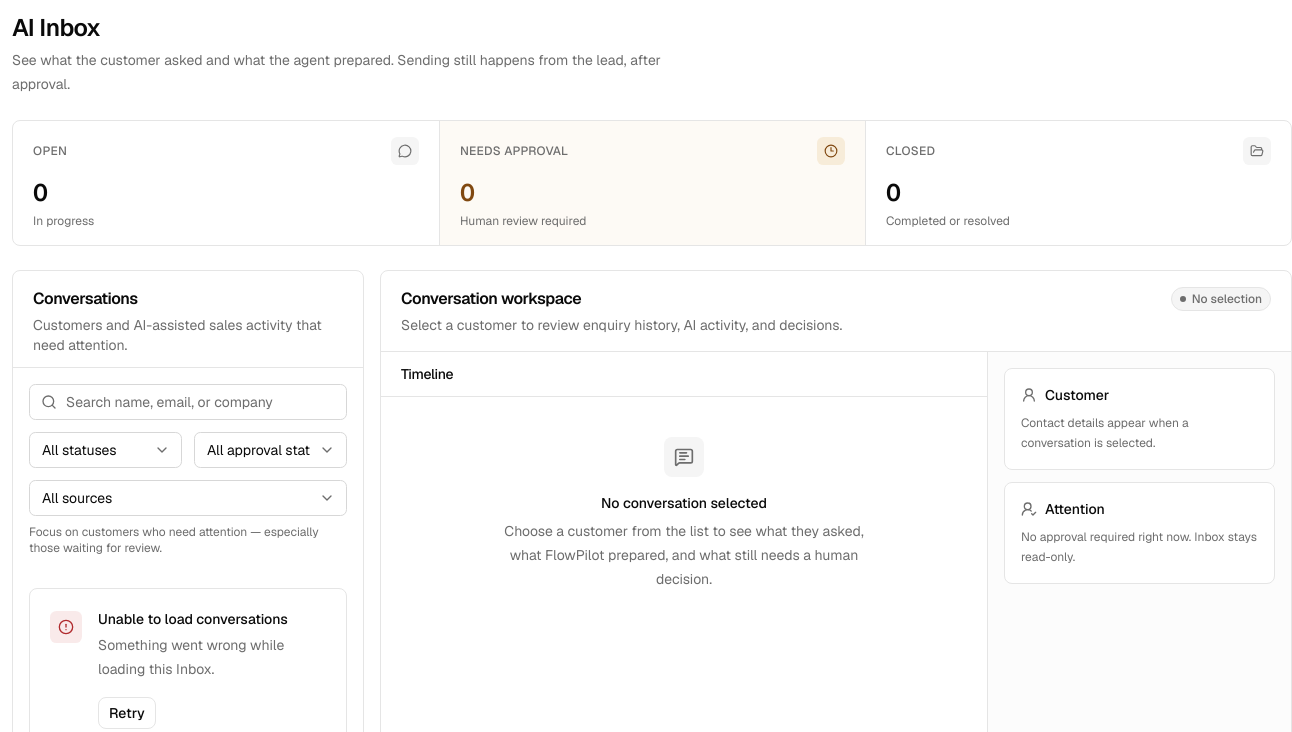
it: AI Inbox page › shows error and retry for list failures
Expected: the heading "Unable to load conversations" is shown, [98,610,288,628]
Click the button "Retry" at (127, 713), box [98,697,156,729]
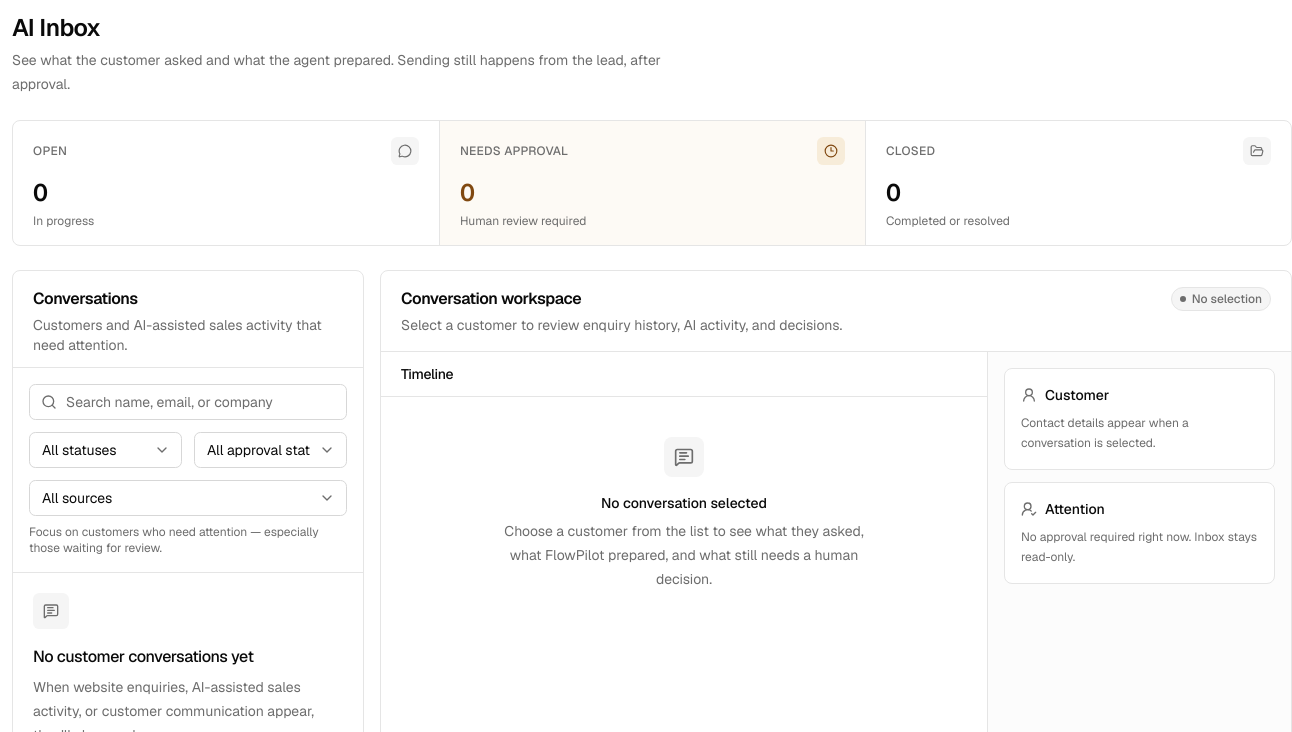
Expected: the heading "No customer conversations yet" is shown, [33,645,254,669]
